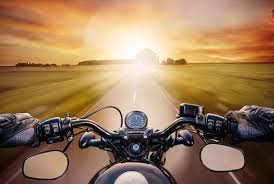motorcycle: (1, 98, 274, 184)
